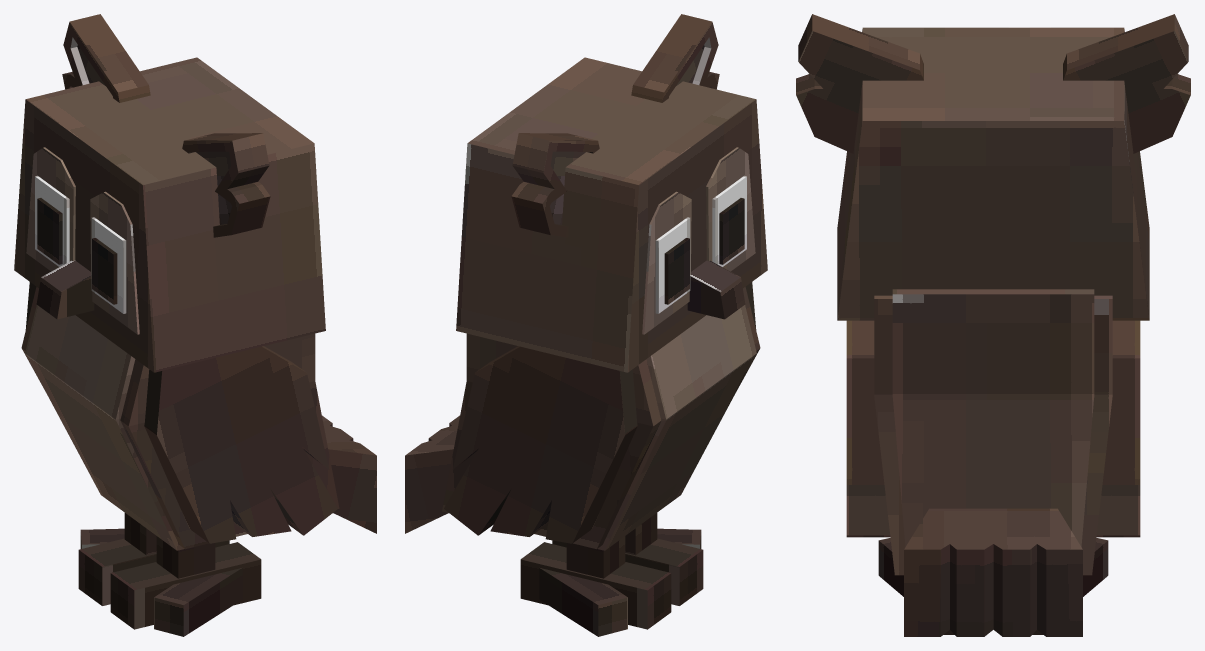
The model's file is animal_owl.obj.
3 views of the same model, side by side, from view 1: azimuth 30°, elevation 25°; view 2: azimuth 150°, elevation 25°; view 3: azimuth 270°, elevation 25° (orthographic). The views are drawn at different scales.
Parts seen in each view (by area): view 1: animal_owl; view 2: animal_owl; view 3: animal_owl.
Boxes of the visible parts, bbox=[...] form: animal_owl: bbox=[14, 14, 376, 636]; animal_owl: bbox=[405, 14, 767, 636]; animal_owl: bbox=[796, 14, 1190, 636].
Bounding box in the file's own units: 1.62 × 2.77 × 1.72.
1 material, 1 textured.
